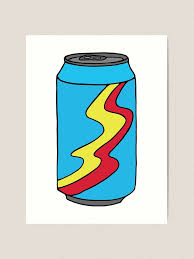can: (57, 52, 136, 206)
